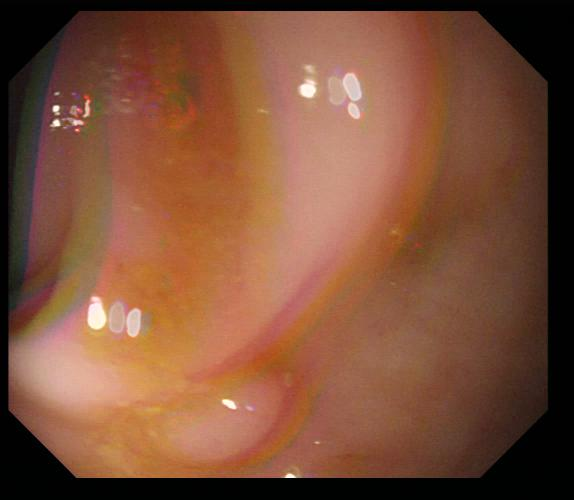polyp: (143, 373, 303, 469)
